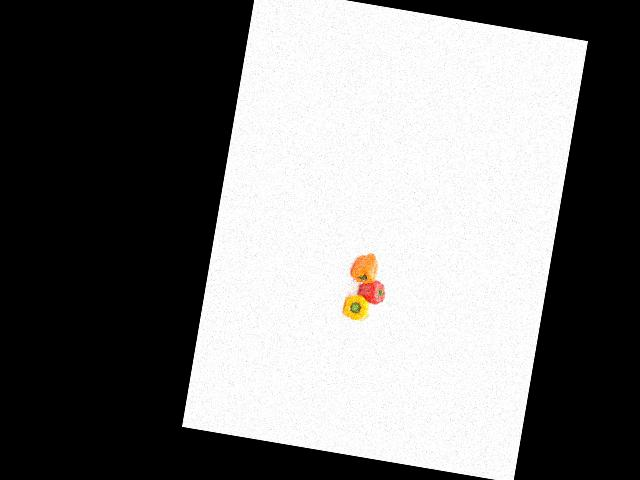bell_pepper: (341, 289, 373, 324)
